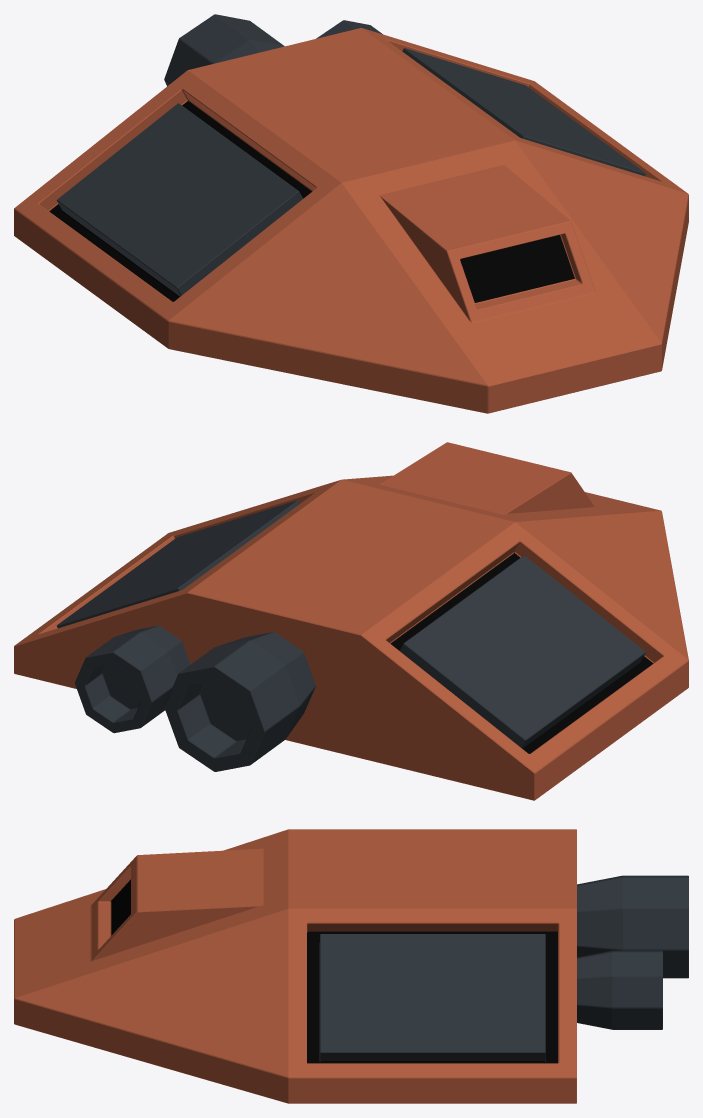
The model's file is spaceship.fbx.
3 views of the same model, one above another, from view 1: azimuth 30°, elevation 25°; view 2: azimuth 150°, elevation 25°; view 3: azimuth 270°, elevation 25° (orthographic). The views are drawn at different scales.
Visible parts, largest first — view 1: LowPolySpaceship; view 2: LowPolySpaceship; view 3: LowPolySpaceship.
Boxes of the visible parts, x1=… form: LowPolySpaceship: x1=14, y1=14, x2=688, y2=413; LowPolySpaceship: x1=14, y1=442, x2=688, y2=800; LowPolySpaceship: x1=14, y1=829, x2=688, y2=1103.
Bounding box in the file's own units: 200 × 45.45 × 240.
